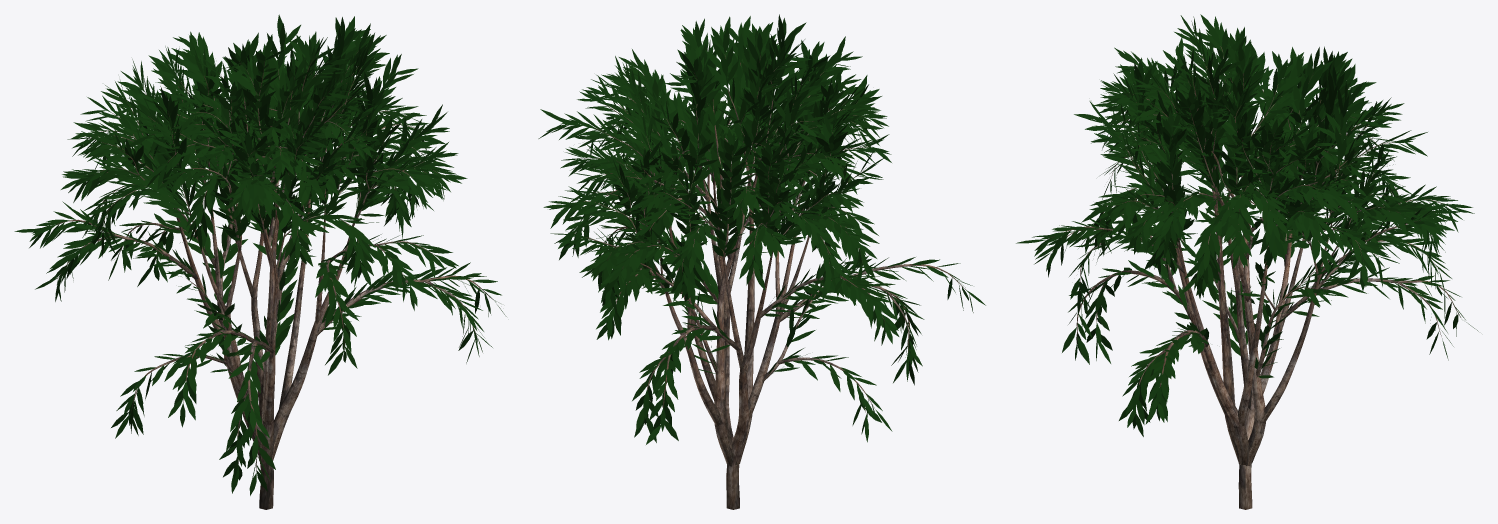
The model's file is tree.glb.
The picture shows the model from 3 angles, left to right: view 1: azimuth 30°, elevation 25°; view 2: azimuth 150°, elevation 25°; view 3: azimuth 270°, elevation 25°; orthographic projection. The views are drawn at different scales.
Parts seen in each view (by area): view 1: leaves, tree; view 2: leaves, tree; view 3: leaves, tree.
Part boxes in pixels (x1,y1,x2,y2): leaves: [14, 14, 506, 495]; tree: [57, 51, 492, 509]; leaves: [538, 14, 985, 444]; tree: [574, 54, 965, 509]; leaves: [1016, 14, 1478, 436]; tree: [1047, 39, 1460, 509].
Bounding box in the file's own units: 5.78 × 6.87 × 6.07.
Materials: 2 (1 with a texture image).
